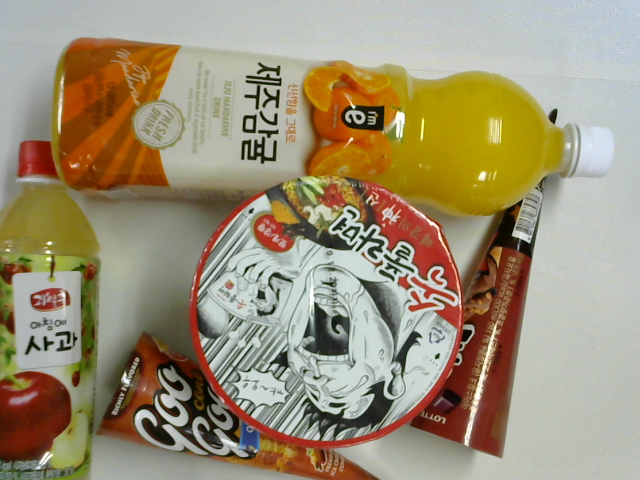GooGoo_Cone_CVS: (97, 334, 387, 480)
Hejangpul: (190, 179, 462, 443)
Jeju_Tangerine_1.5L: (54, 35, 614, 219)
Morning_Apple_500ml: (1, 138, 101, 475)
World_Cone_Choco: (407, 104, 562, 460)
